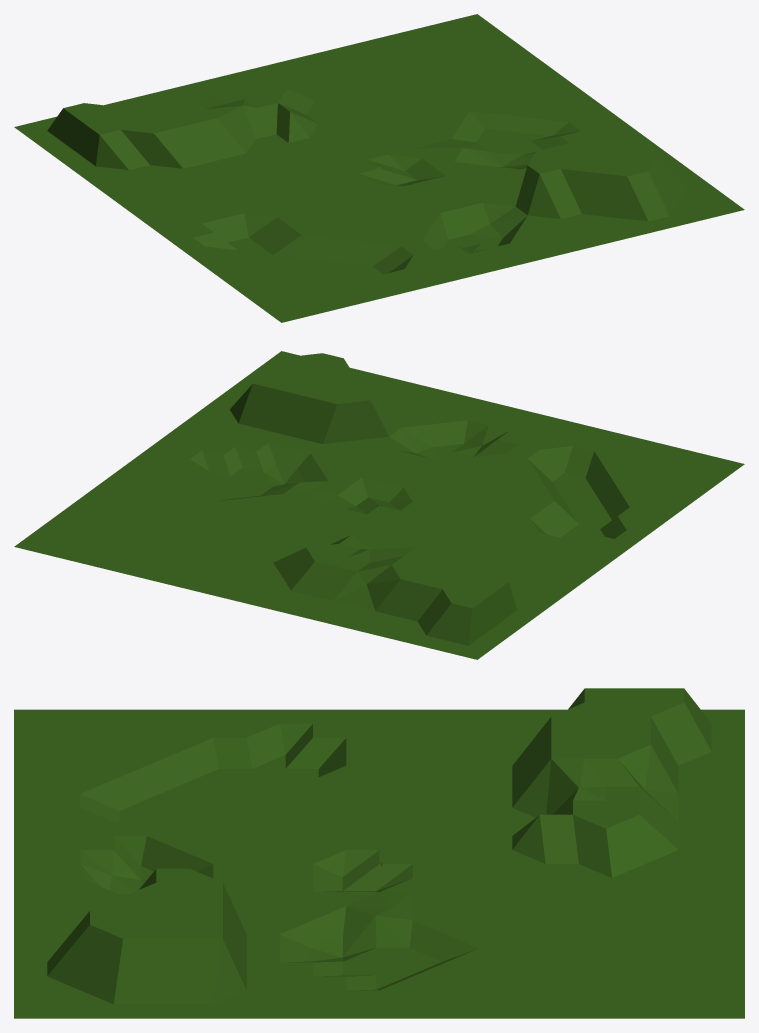
Rendered from Forestv2.fbx.
3 renders of one model, top to bottom at view 1: azimuth 30°, elevation 25°; view 2: azimuth 150°, elevation 25°; view 3: azimuth 270°, elevation 25°, orthographic. The views are drawn at different scales.
Parts seen in each view (by area): view 1: Plane; view 2: Plane; view 3: Plane.
Part boxes in pixels (bbox=[...]): Plane: bbox=[14, 14, 744, 322]; Plane: bbox=[14, 351, 744, 659]; Plane: bbox=[14, 688, 744, 1018].
Bounding box in the file's own units: 20000 × 2078 × 20000.
